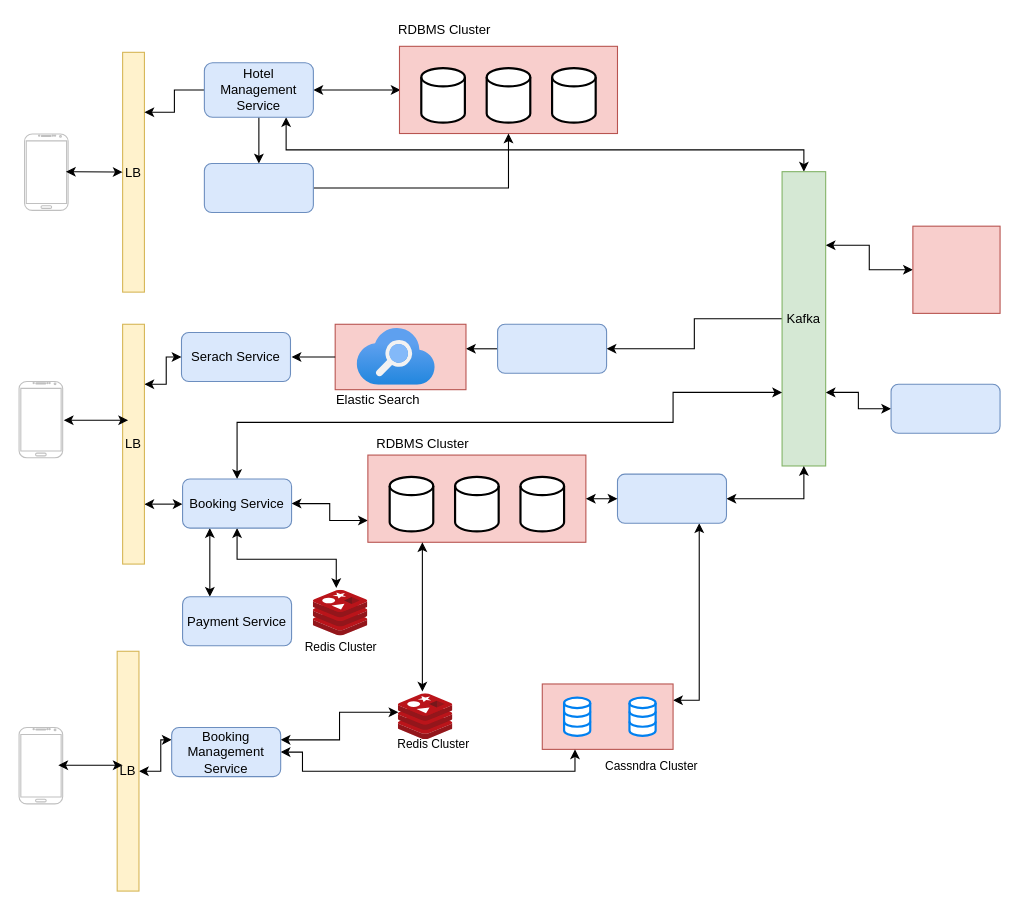
The diagram is 1019 pixels wide and 910 high, and some of its shapes have lost their labels. Here are the shapes that lost their labels. From the top down, the box of each, then its label:
(203, 162, 313, 213): CDN
(912, 225, 1000, 313): Hadoop Cluster
(496, 323, 607, 373): Serach Consumer Service
(890, 383, 1000, 433): Notification Service
(616, 473, 726, 523): Archival Service
